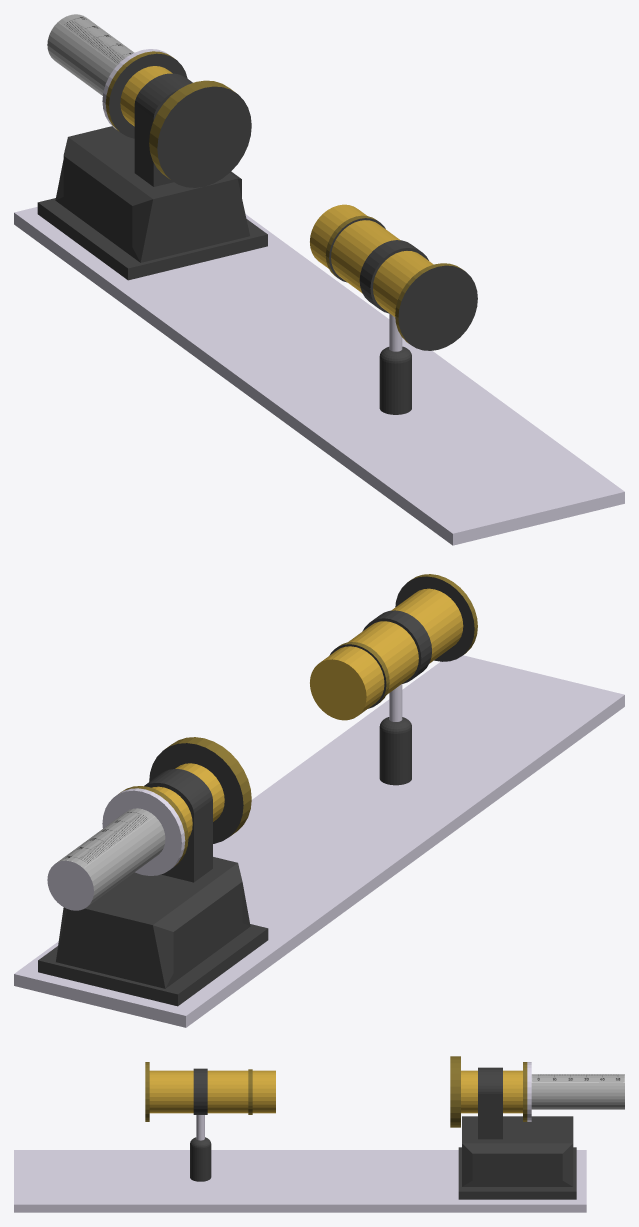
Rendered from Установка вся v5.fbx.
3 renders of one model, top to bottom at view 1: azimuth 30°, elevation 25°; view 2: azimuth 150°, elevation 25°; view 3: azimuth 270°, elevation 25°, orthographic. The views are drawn at different scales.
Visible parts, largest first — view 1: Подставка, Подставка справа, Часть после шкалы (круги), Часть перед секцией, Часть перед секцией (круги) v1, Шкала №2 (доп текстура), Подставка слева (нч), Часть после секции (круги), Шкала №2 (текстура), Подставка слева (вч), Часть после шкалы, Часть после секции; view 2: Подставка, Подставка справа, Часть перед секцией, Шкала №2, Шкала №2 (доп текстура), Часть после шкалы (круги), Подставка слева (нч), Шкала №2 (текстура), Часть перед секцией (круги) v1, Часть после секции, Подставка слева (вч), Часть после шкалы; view 3: Подставка, Подставка справа, Часть перед секцией, Шкала №2 (доп текстура), Часть после секции, Подставка слева (нч), Шкала №2 (текстура), Часть после шкалы, Подставка слева (вч), Часть перед секцией (боковая сторона) v1, Часть после секции (боковая сторона), Шкала №2.
Part boxes in pixels (x1,y1,x2,y2): Подставка: (14,207,624,545); Подставка справа: (37,73,267,280); Часть после шкалы (круги): (157,86,251,187); Часть перед секцией: (310,204,433,316); Часть перед секцией (круги) v1: (398,265,477,350); Шкала №2 (доп текстура): (47,17,134,95); Подставка слева (нч): (379,346,411,414); Часть после секции (круги): (109,53,187,138); Шкала №2 (текстура): (58,14,133,65); Подставка слева (вч): (359,240,428,313); Часть после шкалы: (149,80,235,179); Часть после секции: (120,66,172,126); Подставка: (14,655,624,1027); Подставка справа: (38,769,268,1006); Часть перед секцией: (310,588,463,720); Шкала №2: (47,788,185,910); Шкала №2 (доп текстура): (55,811,165,905); Часть после шкалы (круги): (149,743,243,843); Подставка слева (нч): (379,717,411,785); Шкала №2 (текстура): (58,808,154,868); Часть перед секцией (круги) v1: (395,576,474,661); Часть после секции: (151,763,224,837); Подставка слева (вч): (362,610,431,683); Часть после шкалы: (164,737,251,836); Подставка: (14,1150,586,1212); Подставка справа: (458,1067,576,1199); Часть перед секцией: (149,1070,275,1113); Шкала №2 (доп текстура): (531,1083,624,1109); Часть после секции: (461,1070,522,1113); Подставка слева (нч): (190,1137,211,1181); Шкала №2 (текстура): (531,1074,624,1082); Часть после шкалы: (450,1056,460,1127); Подставка слева (вч): (193,1068,207,1114); Часть перед секцией (боковая сторона) v1: (145,1062,149,1121); Часть после секции (боковая сторона): (523,1062,527,1121); Шкала №2: (527,1062,531,1121).
Bounding box in the file's own units: 9.06 × 9.66 × 42.67.
5 materials, 1 textured.
